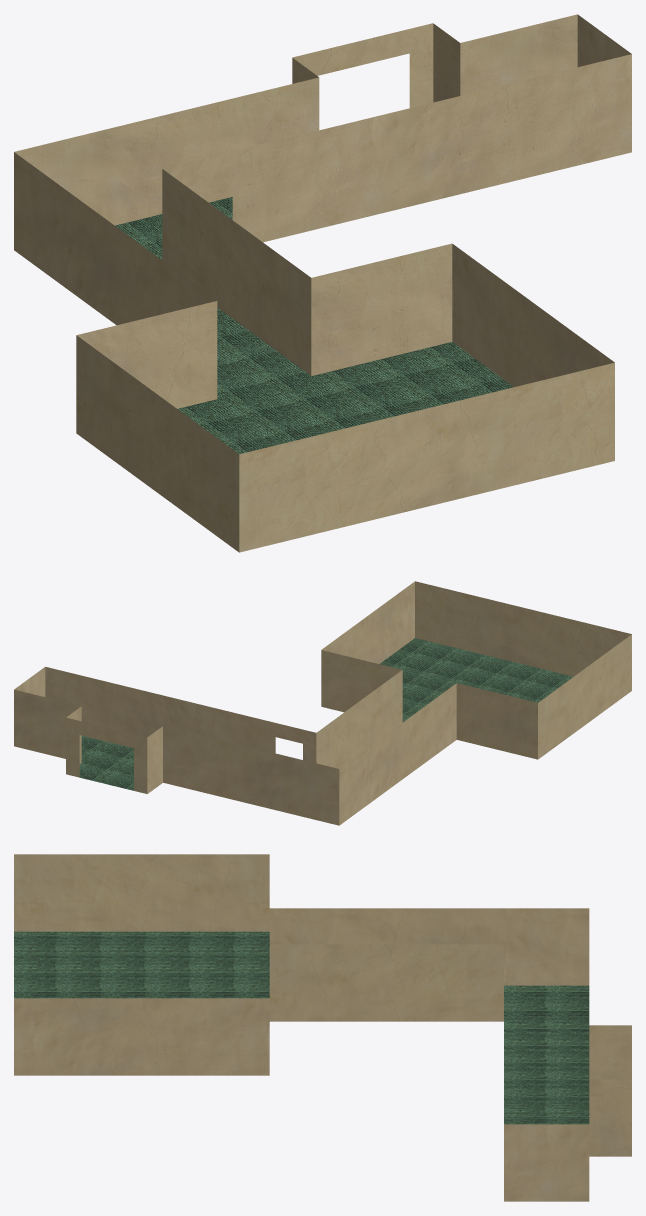
The model's file is Haunted Housefbx.fbx.
3 renders of one model, top to bottom at view 1: azimuth 30°, elevation 25°; view 2: azimuth 150°, elevation 25°; view 3: azimuth 270°, elevation 25°, orthographic. The views are drawn at different scales.
Parts seen in each view (by area): view 1: Walls, Carpet; view 2: Walls, Carpet; view 3: Walls, Carpet.
Part boxes in pixels (left/top/right/bottom): Walls: left=14, top=14, right=631, bottom=552; Carpet: left=115, top=197, right=513, bottom=454; Walls: left=14, top=581, right=631, bottom=825; Carpet: left=79, top=638, right=573, bottom=790; Walls: left=14, top=854, right=631, bottom=1201; Carpet: left=14, top=931, right=589, bottom=1124.
Bounding box in the file's own units: 3000 × 400 × 2900.
